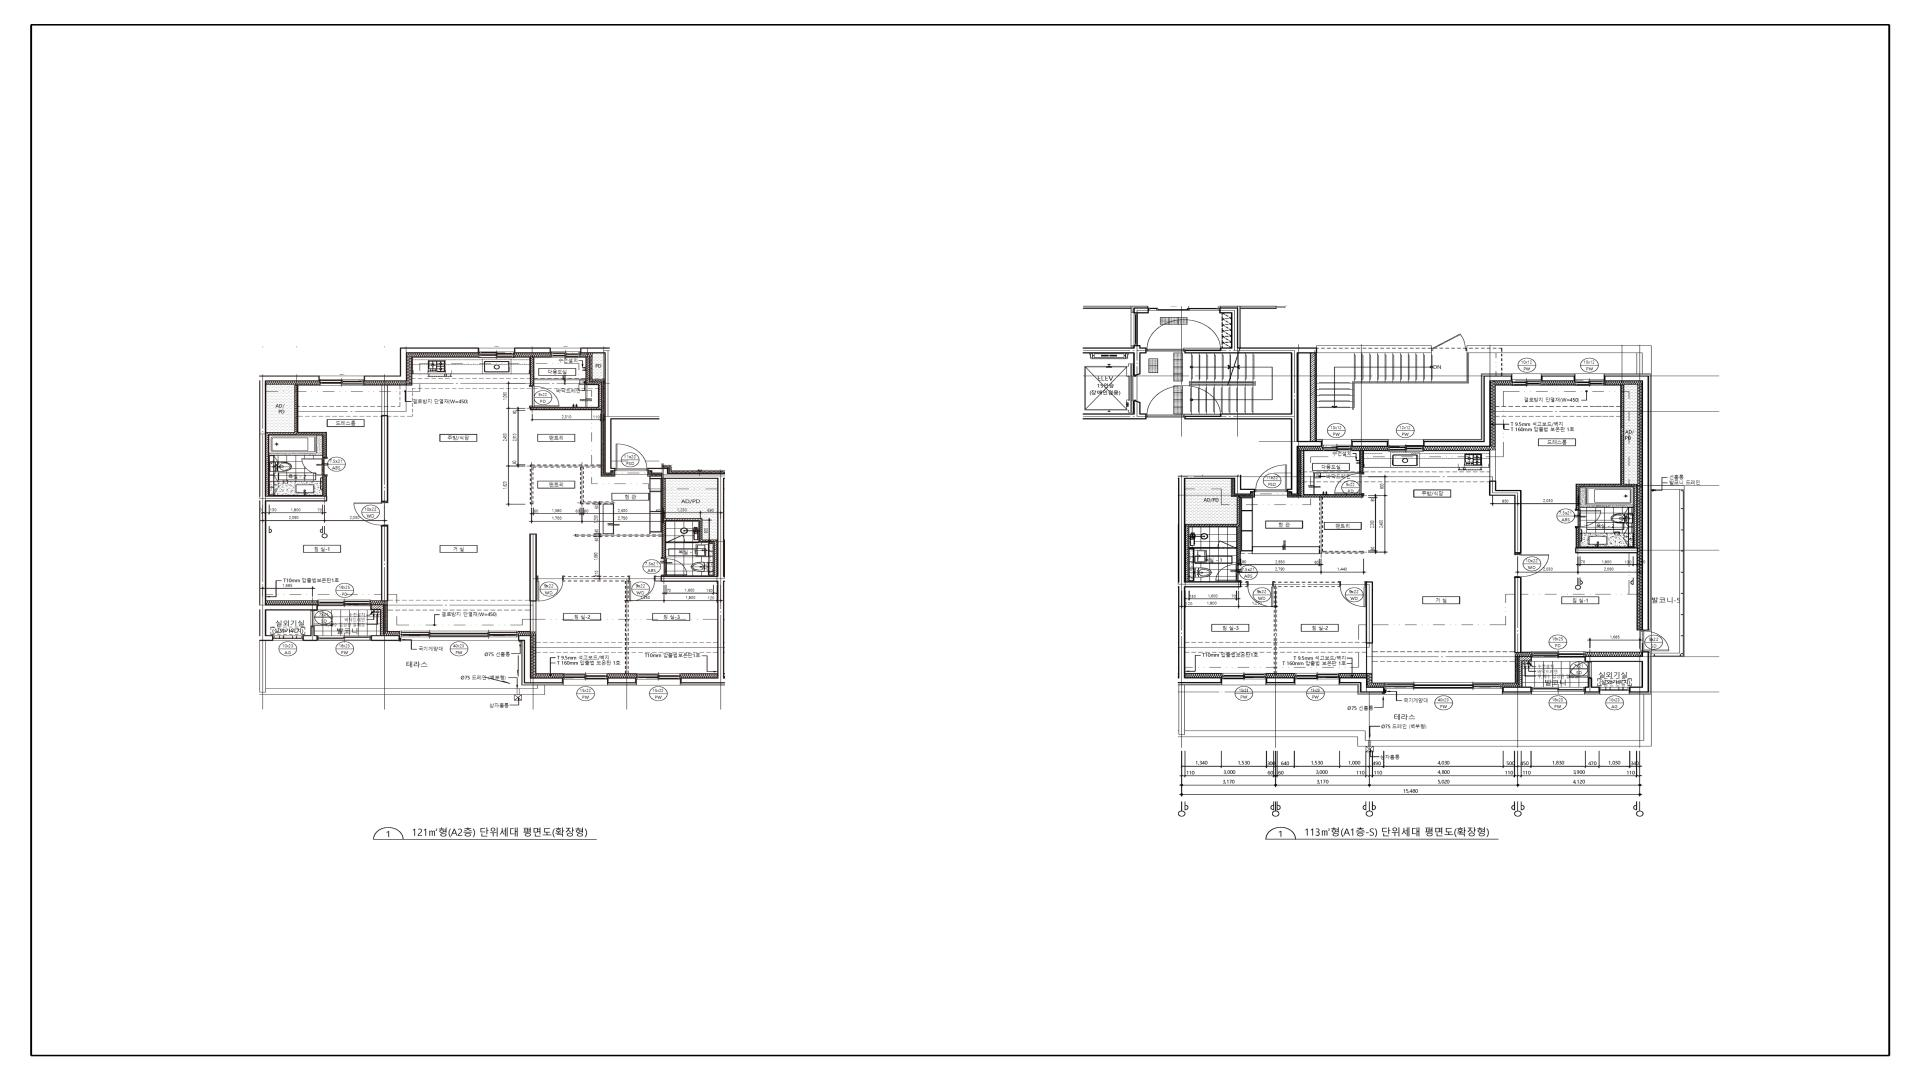door: (1147, 385, 1185, 418), (1147, 319, 1184, 352), (616, 443, 647, 471), (353, 502, 389, 526), (1514, 554, 1549, 578), (1255, 465, 1287, 492), (1246, 582, 1274, 608), (529, 385, 559, 407), (629, 576, 655, 601), (537, 576, 563, 601), (1340, 582, 1366, 607), (1335, 473, 1365, 495), (1640, 630, 1669, 651), (1432, 334, 1466, 351), (661, 558, 687, 576), (302, 458, 328, 476), (1216, 563, 1242, 582), (1575, 509, 1601, 527), (310, 611, 334, 626), (1569, 662, 1592, 678), (666, 535, 699, 543), (1217, 541, 1237, 549)
wall: (1184, 307, 1432, 495), (260, 376, 327, 641), (647, 468, 725, 683), (1178, 475, 1255, 683), (1605, 376, 1648, 630), (1576, 385, 1638, 554), (580, 348, 659, 473), (266, 385, 327, 496), (1300, 450, 1364, 554), (564, 576, 629, 674), (1424, 376, 1511, 447), (1274, 582, 1340, 674), (1652, 485, 1684, 657), (1466, 345, 1652, 375), (1185, 497, 1241, 582), (364, 347, 480, 381), (530, 357, 601, 410), (1489, 450, 1522, 554), (530, 464, 613, 505), (665, 479, 717, 539), (1585, 651, 1650, 692), (518, 636, 563, 683), (1083, 345, 1147, 376), (1083, 401, 1147, 419), (381, 385, 389, 502), (529, 534, 537, 632), (1309, 353, 1317, 442), (1340, 678, 1385, 692), (1366, 582, 1373, 674), (1514, 578, 1522, 653), (381, 526, 389, 601), (371, 605, 384, 636), (1352, 440, 1389, 447), (302, 626, 318, 641), (575, 534, 661, 537), (1585, 678, 1600, 692), (514, 348, 551, 353), (1542, 376, 1575, 381), (1502, 687, 1532, 692), (607, 678, 637, 683), (1266, 678, 1295, 683), (371, 636, 400, 641), (1083, 306, 1131, 309), (530, 357, 534, 385), (1133, 307, 1149, 314), (322, 476, 327, 496), (1241, 306, 1276, 309), (1360, 451, 1364, 473), (655, 576, 661, 582)
window: (1385, 683, 1502, 695), (400, 632, 518, 641), (636, 674, 680, 688), (563, 674, 608, 687), (318, 600, 371, 611), (1532, 651, 1585, 662), (1295, 674, 1340, 686), (1222, 674, 1266, 686), (1389, 439, 1424, 451), (1532, 687, 1585, 695), (1511, 373, 1542, 386), (1575, 373, 1605, 386), (1323, 439, 1352, 451), (318, 636, 371, 641), (1600, 687, 1630, 695), (319, 376, 364, 381), (1131, 314, 1138, 345), (479, 348, 514, 353), (551, 348, 580, 353), (273, 636, 302, 641)
